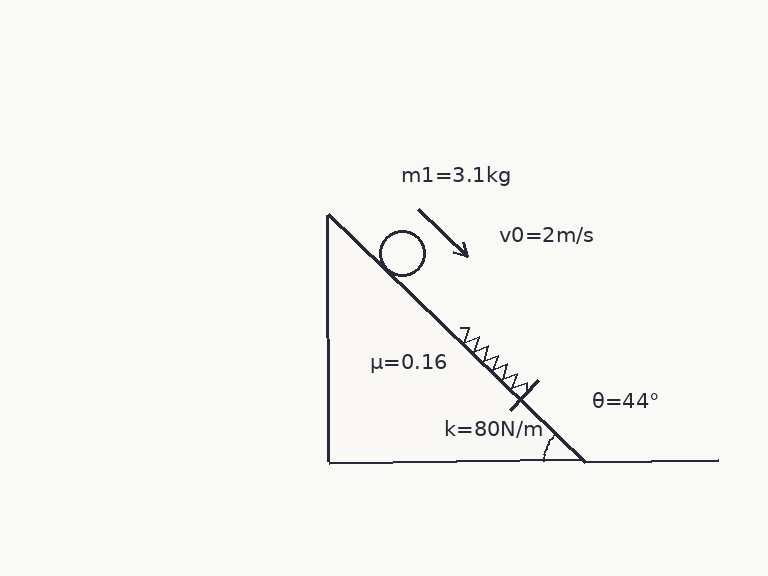ball: (377, 228, 427, 278)
ramp: (326, 212, 586, 463)
spring: (458, 326, 528, 395)
